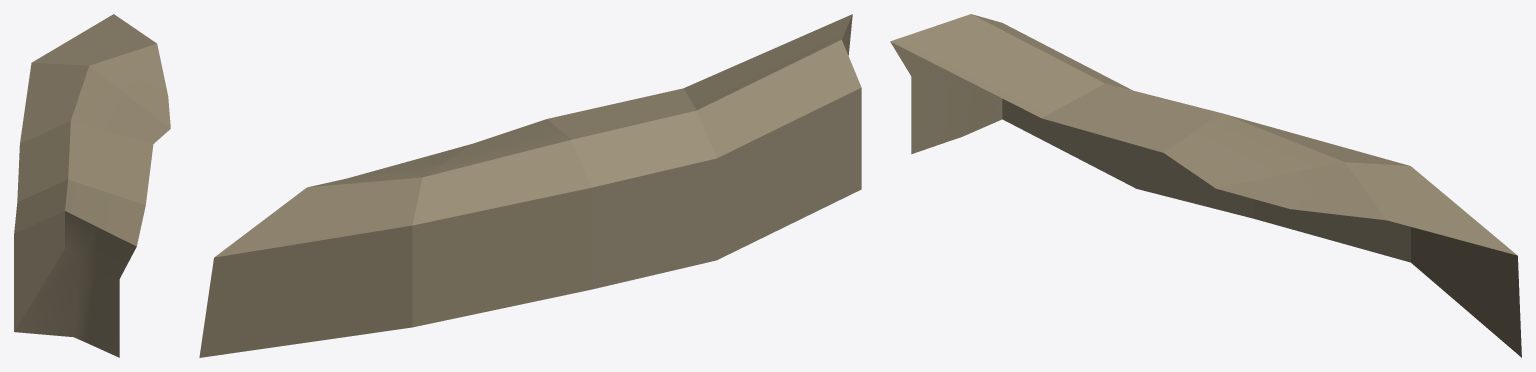
The model's file is terrain_Mountains_south.fbx.
3 renders of one model, left to right at view 1: azimuth 30°, elevation 25°; view 2: azimuth 150°, elevation 25°; view 3: azimuth 270°, elevation 25°, orthographic. The views are drawn at different scales.
Visible parts, largest first — view 1: mountainsSouth; view 2: mountainsSouth; view 3: mountainsSouth.
Part boxes in pixels (<box>): mountainsSouth: <box>14,14,170,357</box>; mountainsSouth: <box>199,14,861,357</box>; mountainsSouth: <box>890,14,1521,357</box>.
Size of the model in its own units: 13463 by 6348 by 20041.
